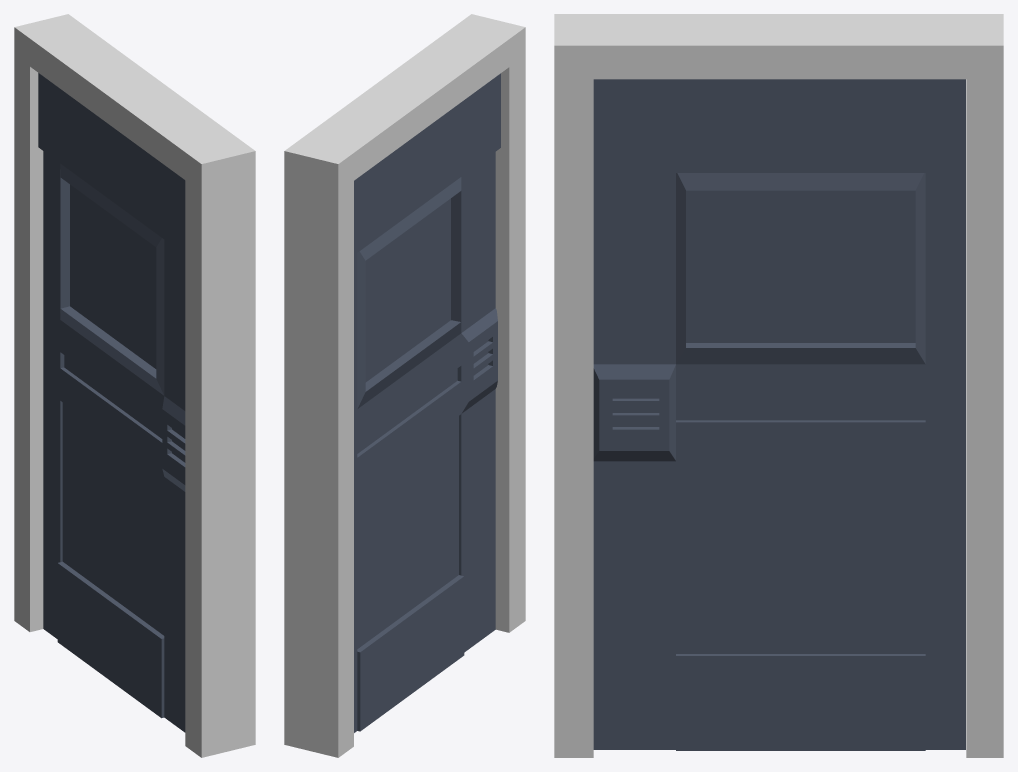
The model's file is door.fbx.
3 renders of one model, left to right at view 1: azimuth 30°, elevation 25°; view 2: azimuth 150°, elevation 25°; view 3: azimuth 270°, elevation 25°, orthographic. The views are drawn at different scales.
Visible parts, largest first — view 1: Cube.001, Cube; view 2: Cube.001, Cube; view 3: Cube.001, Cube.
Part boxes in pixels (box(x1,y1,x2,y2)): Cube.001: box(38, 73, 185, 732); Cube: box(14, 14, 255, 757); Cube.001: box(354, 73, 500, 732); Cube: box(284, 14, 525, 757); Cube.001: box(593, 79, 965, 750); Cube: box(554, 14, 1003, 757).
Bounding box in the file's own units: 20 × 210 × 120.
